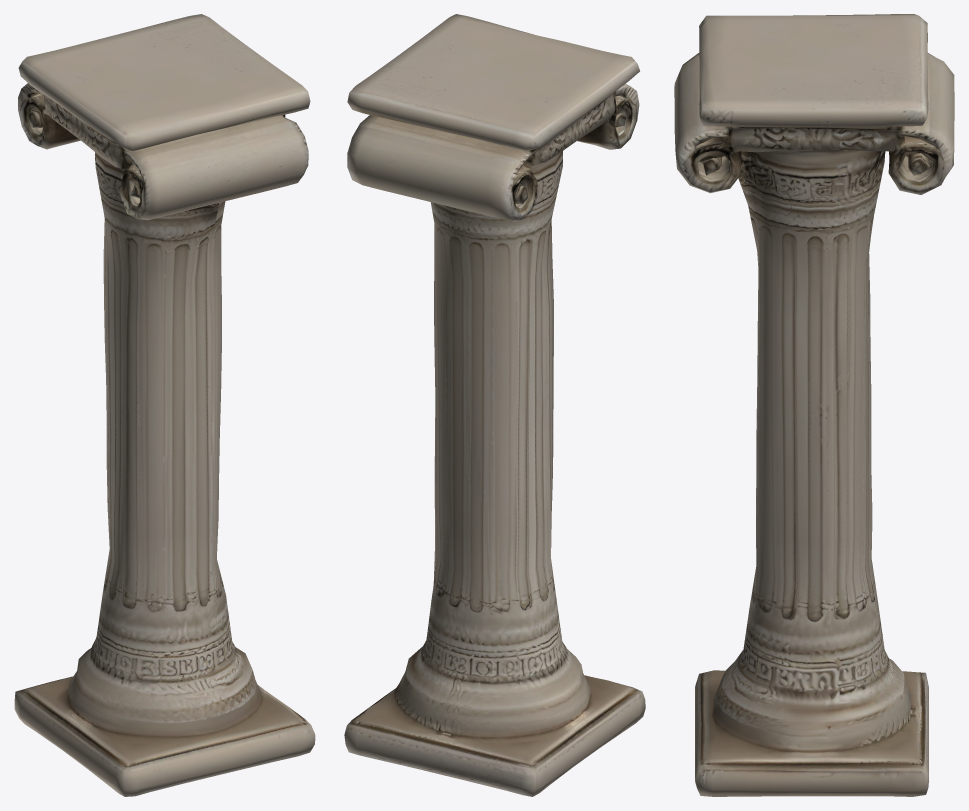
The model's file is pilar.fbx.
The picture shows the model from 3 angles, left to right: view 1: azimuth 30°, elevation 25°; view 2: azimuth 150°, elevation 25°; view 3: azimuth 270°, elevation 25°; orthographic projection. The views are drawn at different scales.
Parts seen in each view (by area): view 1: tripo_node_1839d90c; view 2: tripo_node_1839d90c; view 3: tripo_node_1839d90c.
Boxes of the visible parts, x1,y1,x2,y2 form: tripo_node_1839d90c: (14, 14, 315, 796); tripo_node_1839d90c: (344, 14, 645, 796); tripo_node_1839d90c: (674, 14, 954, 796).
Bounding box in the file's own units: 0.305 × 0.9999 × 0.367.
Materials: 1 (1 with a texture image).
